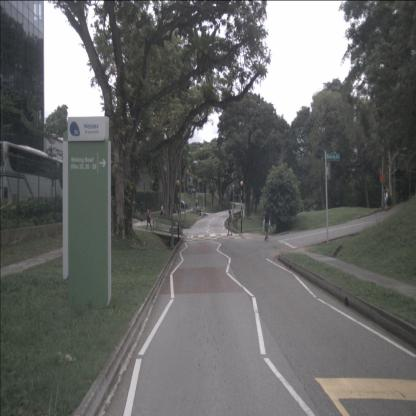human-pedestrian-adult: (263, 209, 270, 240), (227, 210, 233, 235), (146, 207, 152, 231), (384, 190, 388, 211), (160, 203, 164, 218), (200, 204, 202, 216), (193, 203, 195, 214), (197, 204, 199, 215), (198, 198, 200, 206), (197, 198, 198, 208), (196, 198, 197, 208)
vehicle-bus-rigid: (0, 141, 68, 223)
vehicle-car: (172, 200, 187, 210)
